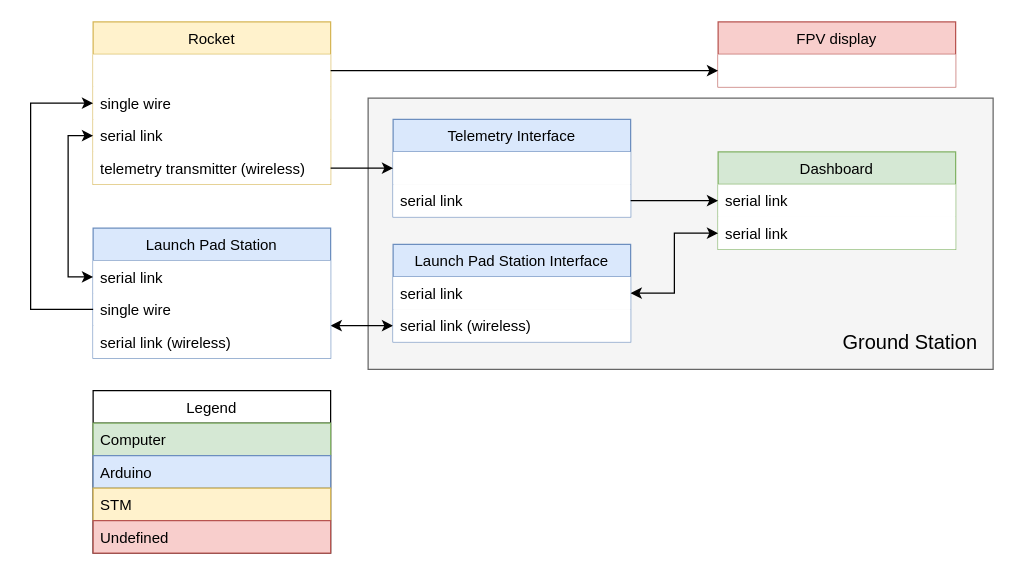
Some shapes in this 1015 by 579 pixel diagram are drawn without their labels. The shapes that lost their labels are listed below. From the top down, each one's centre as x and y in pixels, then its label:
At point 211,70: "FPV transmitter (wireless)".
At point 836,70: "FPV receiver (wireless)".
At point 511,167: "telemetry receiver (wireless)".
